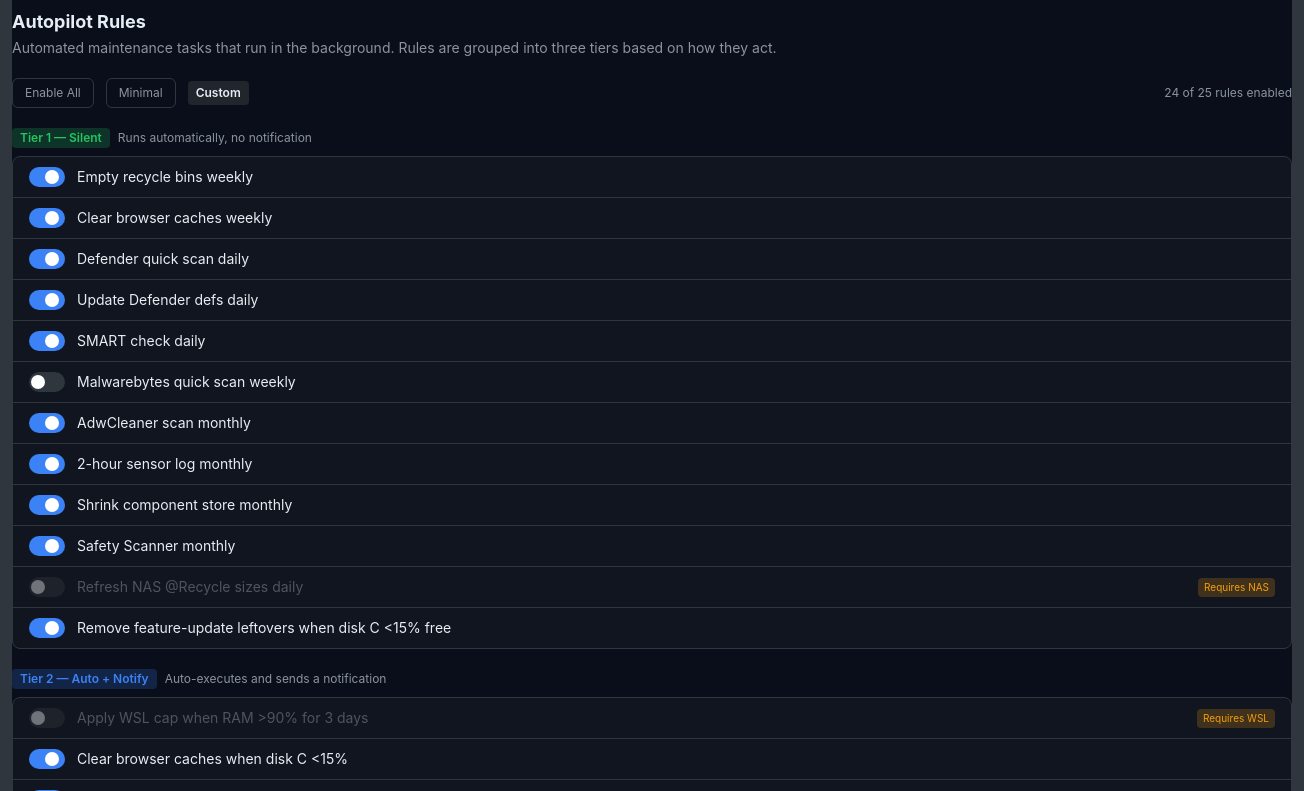
Scenario: <W7AutopilotRules> › Enable All preset enables all rules
This screenshot has width=1304, height=791.
Check: the text "24 of 25 rules enabled" is shown, box x1=1164 y1=85 x2=1292 y2=101
Click the button "Enable All". click: (53, 93)
box: x1=12 y1=78 x2=94 y2=108
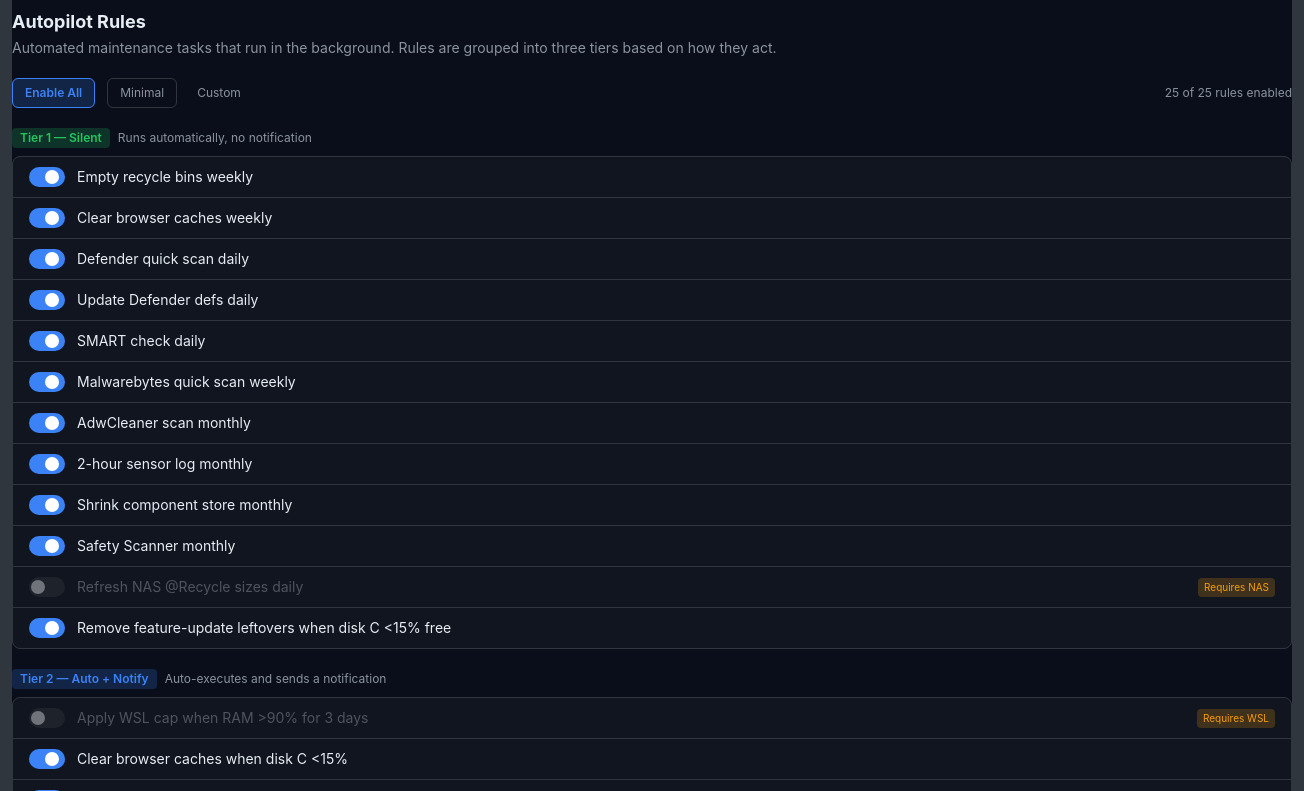
Check: the text "25 of 25 rules enabled" is shown, box x1=1165 y1=85 x2=1292 y2=101
